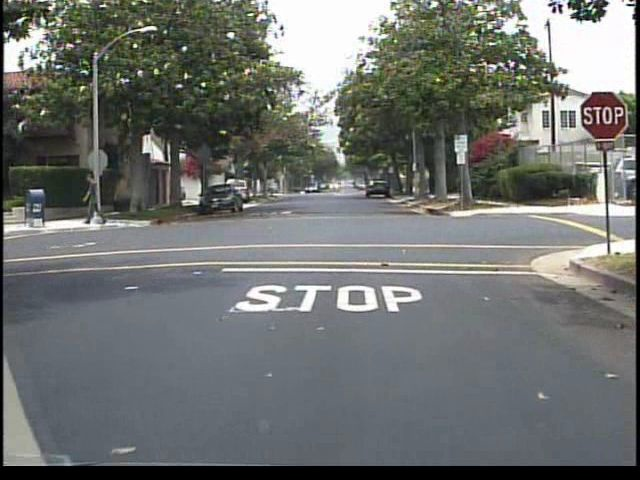person: (80, 167, 110, 230)
